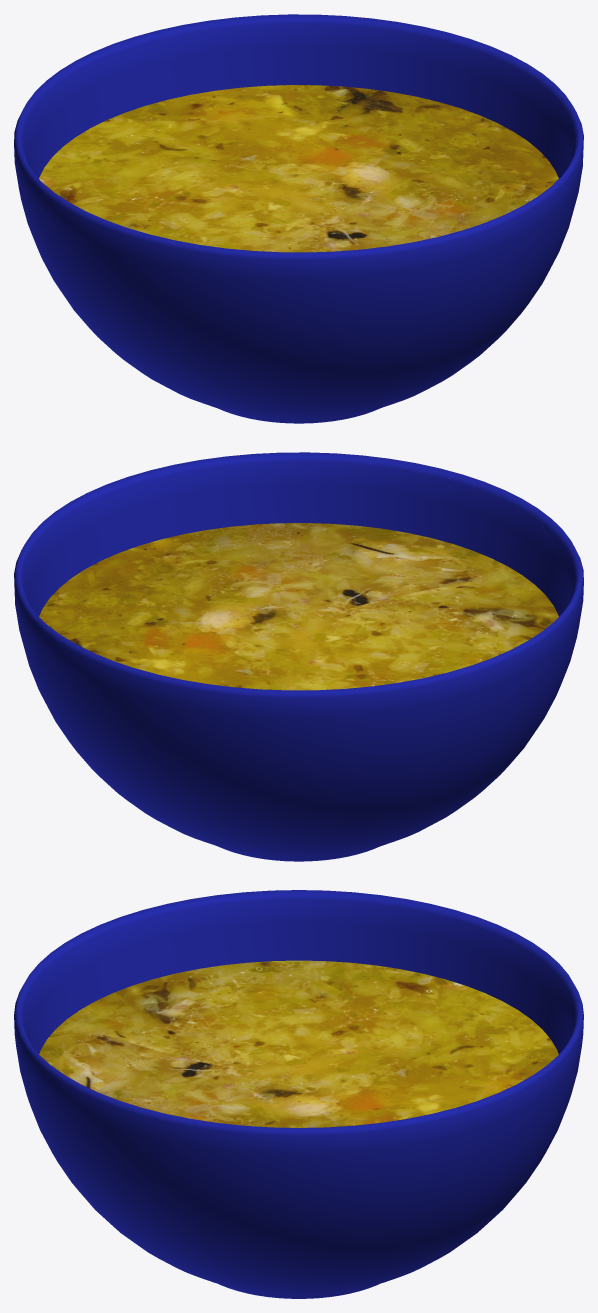
Rendered from miska.FBX.
3 renders of one model, top to bottom at view 1: azimuth 30°, elevation 25°; view 2: azimuth 150°, elevation 25°; view 3: azimuth 270°, elevation 25°, orthographic.
Visible parts, largest first — view 1: Sphere001, Cylinder001; view 2: Sphere001, Cylinder001; view 3: Sphere001, Cylinder001.
Boxes of the visible parts, box(x1,y1,x2,y2) form: Sphere001: box(14, 14, 583, 423); Cylinder001: box(39, 85, 558, 252); Sphere001: box(14, 452, 583, 861); Cylinder001: box(39, 523, 558, 690); Sphere001: box(14, 890, 583, 1298); Cylinder001: box(39, 960, 558, 1127).
Bounding box in the file's own units: 126 × 60.14 × 126.
Materials: 4 (1 with a texture image).
